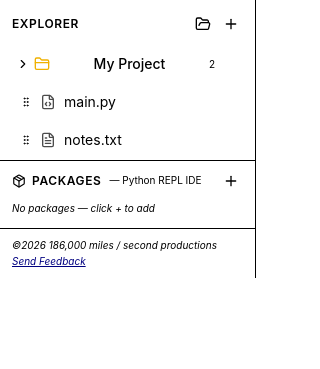
ExplorerPane › expands project to show nested files
Expected: the text "utils.py" is not shown
What coordinates should you click on to do the following:
click the button "My Project"
I would click on:
 (110, 64)
Its box is x1=16 y1=54 x2=205 y2=74.
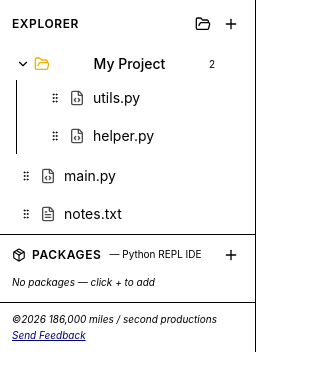
Now the text "utils.py" is shown, box x1=93 y1=89 x2=140 y2=106
Now the text "helper.py" is shown, box x1=93 y1=127 x2=154 y2=144
